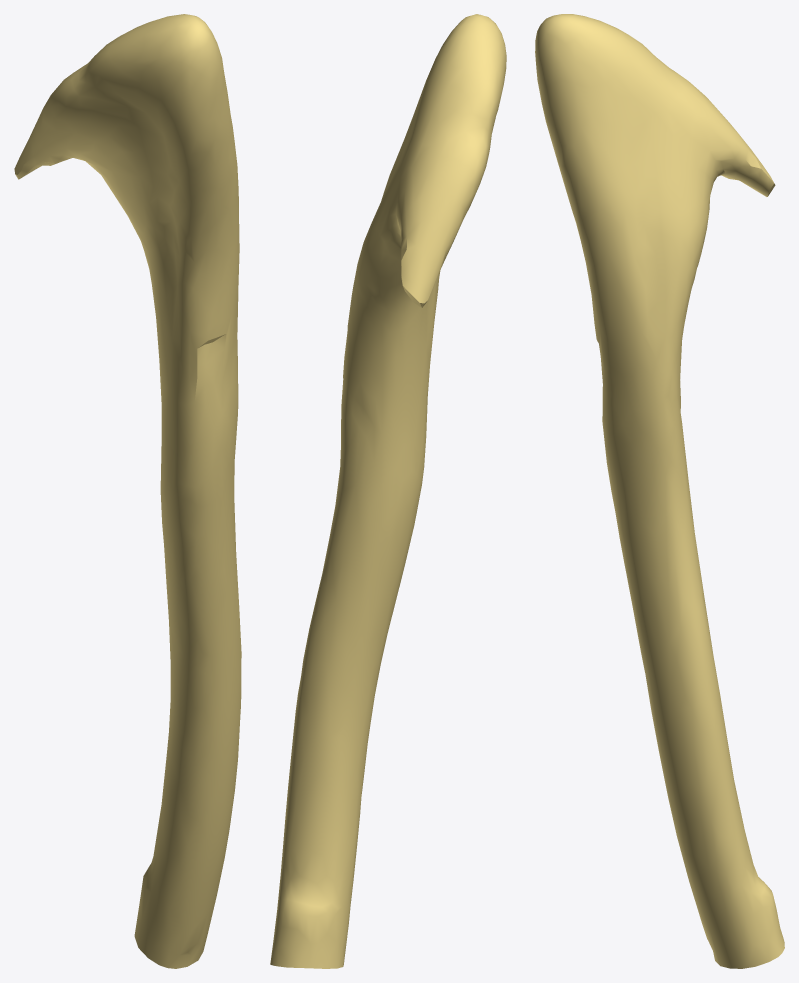
Rendered from fma73882-o_mm2687.glb.
3 views of the same model, side by side, from view 1: azimuth 30°, elevation 25°; view 2: azimuth 150°, elevation 25°; view 3: azimuth 270°, elevation 25° (orthographic). The views are drawn at different scales.
Visible parts, largest first — view 1: FMA73882-O_MM2687; view 2: FMA73882-O_MM2687; view 3: FMA73882-O_MM2687.
Part boxes in pixels (x1,y1,x2,y2): FMA73882-O_MM2687: (14,14,241,968); FMA73882-O_MM2687: (270,14,506,968); FMA73882-O_MM2687: (535,14,784,968).
Bounding box in the file's own units: 0.00494 × 0.0251 × 0.00624.
